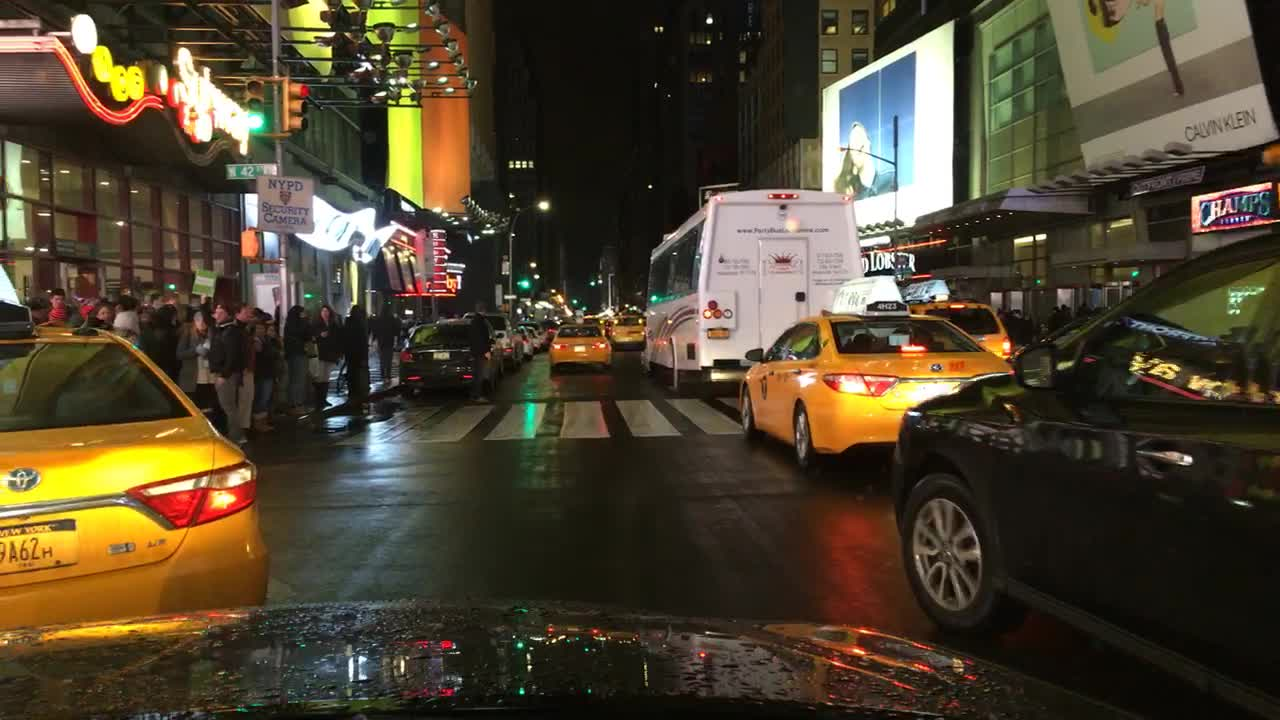bus: (637, 182, 869, 400)
car: (885, 218, 1279, 713), (0, 247, 289, 645), (738, 272, 1017, 475), (394, 310, 487, 404), (905, 293, 1020, 362), (444, 310, 522, 376), (466, 305, 529, 370), (547, 317, 611, 371), (598, 308, 650, 350), (510, 324, 541, 362), (519, 320, 552, 355), (538, 315, 565, 348), (557, 308, 596, 328)
person: (233, 307, 285, 443), (206, 299, 239, 454), (337, 302, 376, 406), (307, 301, 337, 409), (249, 306, 273, 440), (134, 292, 168, 364), (263, 325, 283, 431), (175, 304, 196, 404), (371, 290, 393, 383), (101, 289, 141, 340), (996, 300, 1024, 352), (1066, 291, 1099, 328), (46, 290, 72, 332), (74, 295, 98, 334), (22, 297, 46, 332), (112, 298, 135, 332), (1015, 307, 1034, 345), (1048, 305, 1068, 333)
traffic light: (243, 73, 272, 134), (287, 79, 311, 132), (236, 228, 270, 263)
traffic sign: (255, 173, 311, 230), (222, 159, 280, 182)
